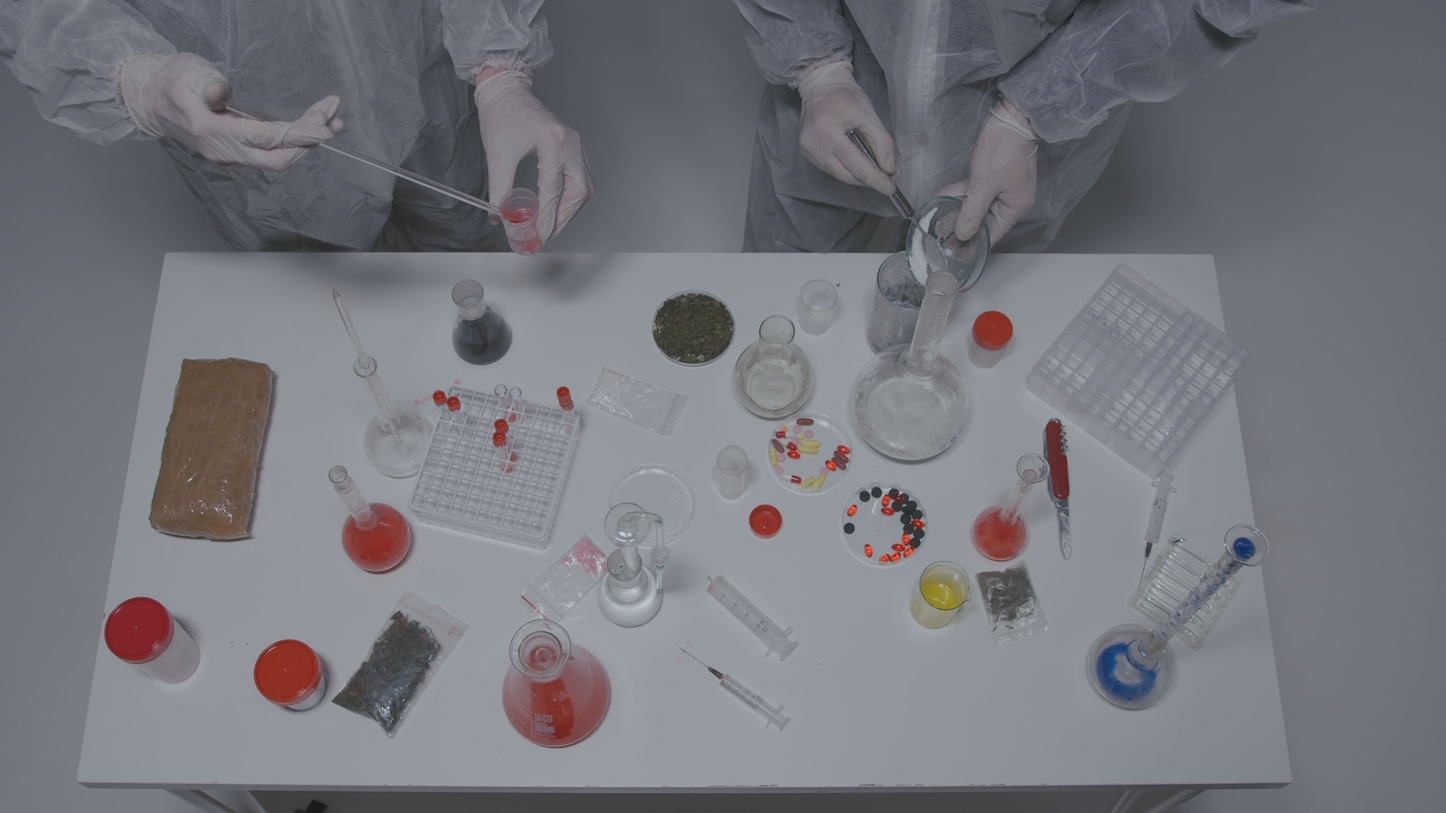gloves: (109, 35, 394, 199), (442, 63, 625, 238), (767, 48, 925, 215), (954, 93, 1041, 286)
